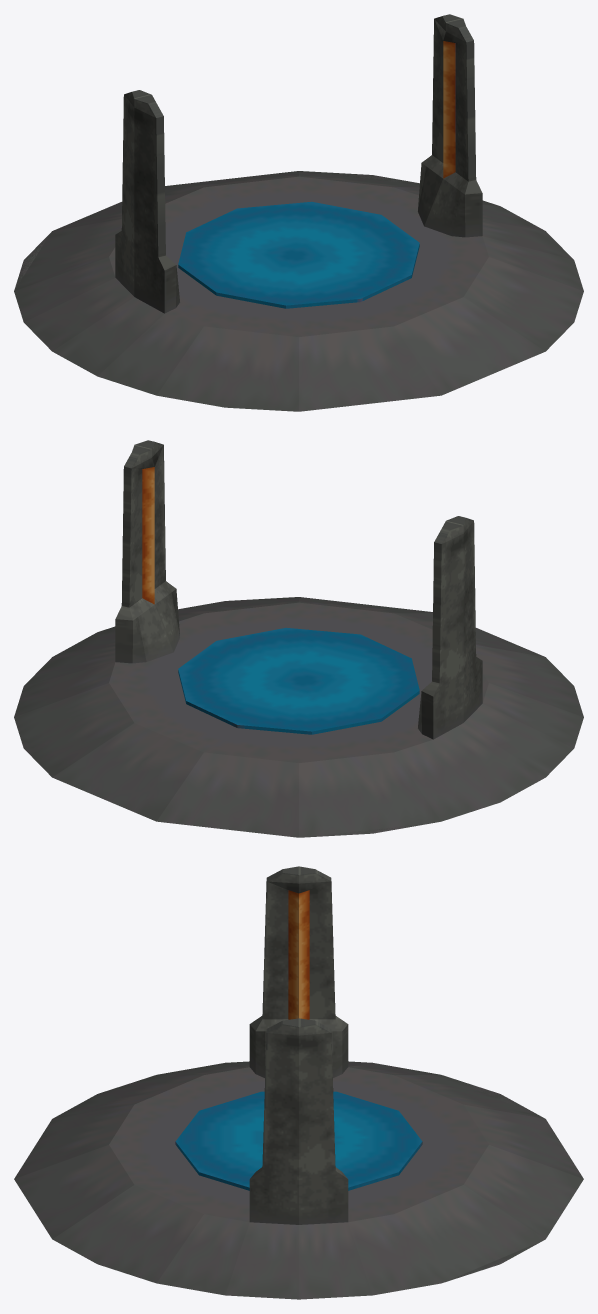
File: AbilityBeacon.fbx
3 renders of one model, top to bottom at view 1: azimuth 30°, elevation 25°; view 2: azimuth 150°, elevation 25°; view 3: azimuth 270°, elevation 25°, orthographic.
Visible parts, largest first — view 1: Base, Pillars, Lightpad; view 2: Base, Pillars, Lightpad; view 3: Base, Pillars, Lightpad.
Part boxes in pixels (x1,y1,x2,y2): Base: (14,171,583,411); Pillars: (115,14,482,313); Lightpad: (178,201,419,308); Base: (14,597,583,837); Pillars: (115,440,482,739); Lightpad: (178,627,419,734); Base: (14,1061,583,1299); Pillars: (249,866,348,1224); Lightpad: (175,1091,422,1190).
Bounding box in the file's own units: 6 × 2.7 × 6.
